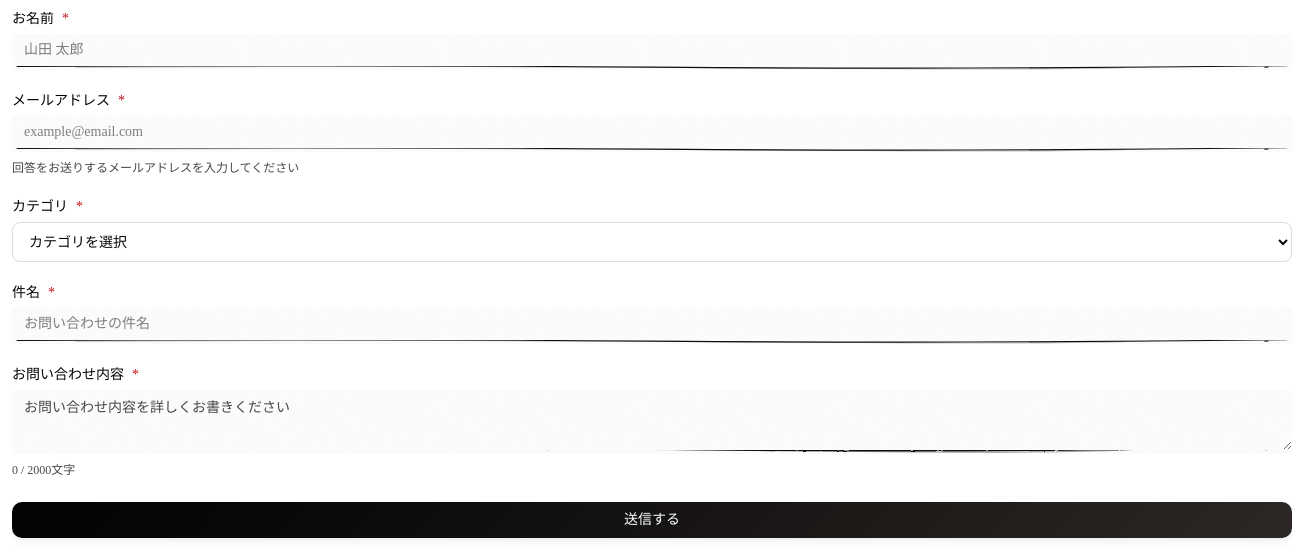
Test case: ContactForm › エラー応答 › Server Action がエラー文字列を持たないオブジェクトを返した場合、フォールバックメッセージが出る
Type "山田太郎" into the field labelled "お名前 *" at (652,52), box [12, 34, 1292, 70]
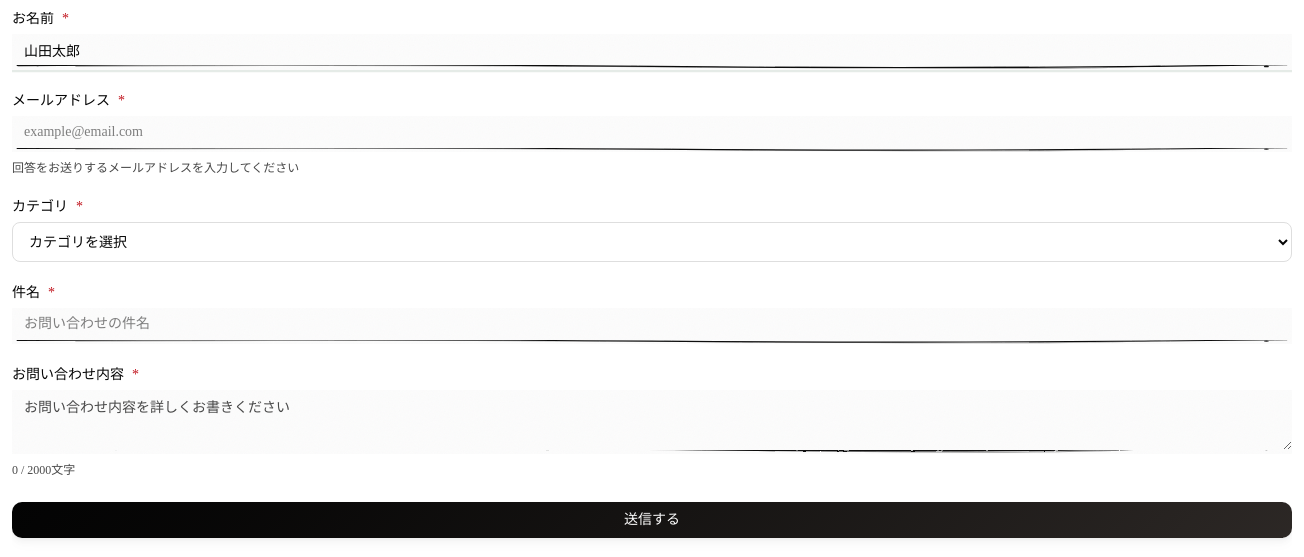
Type "test@example.com" into the field labelled "メールアドレス *" at (652,134), box [12, 116, 1292, 152]
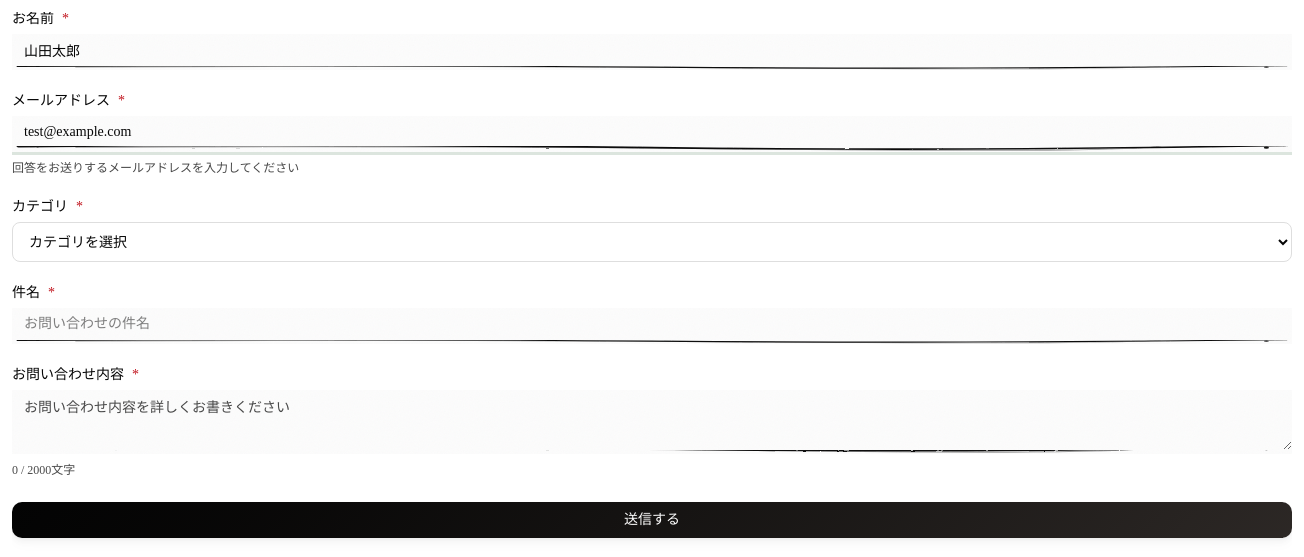
Select "一般的なお問い合わせ" in the dropdown labelled "カテゴリ *" at (652,242), box [12, 222, 1292, 262]
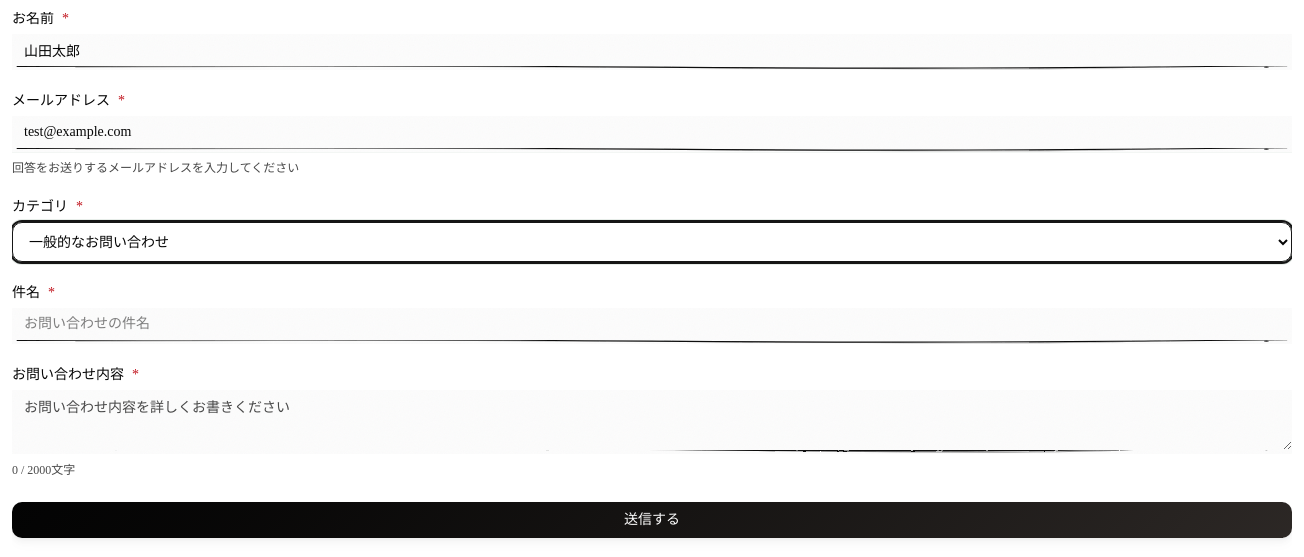
Type "テスト件名" into the field labelled "件名 *" at (652,326), box [12, 308, 1292, 344]
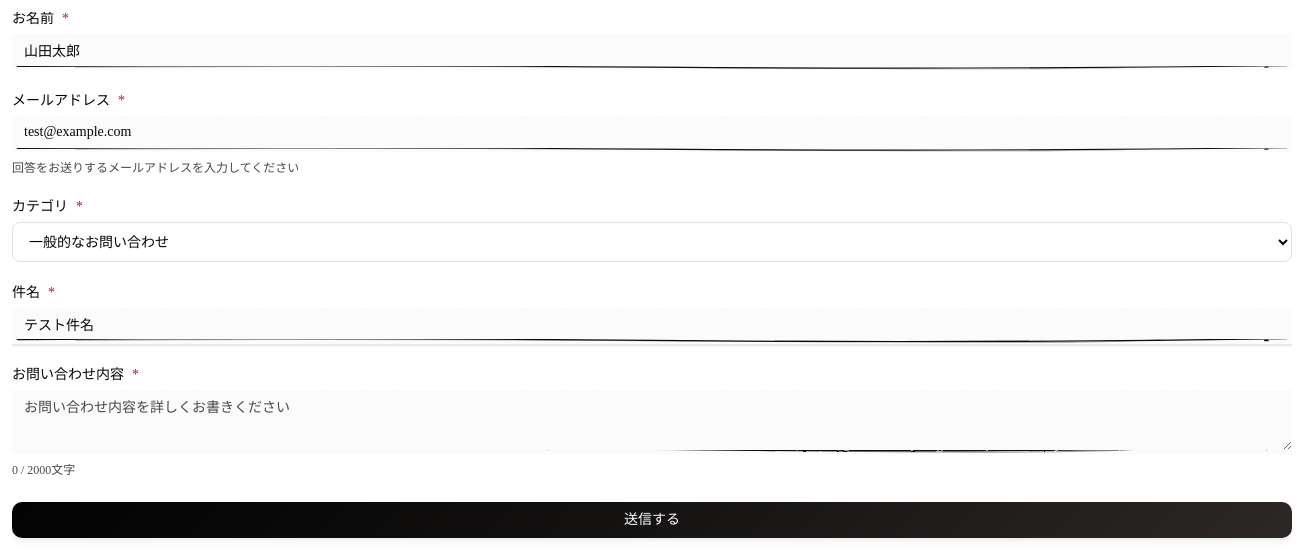
Type "これはテストのお問い合わせ内容です。" into the text box labelled "お問い合わせ内容 *" at (652,422), box [12, 390, 1292, 454]
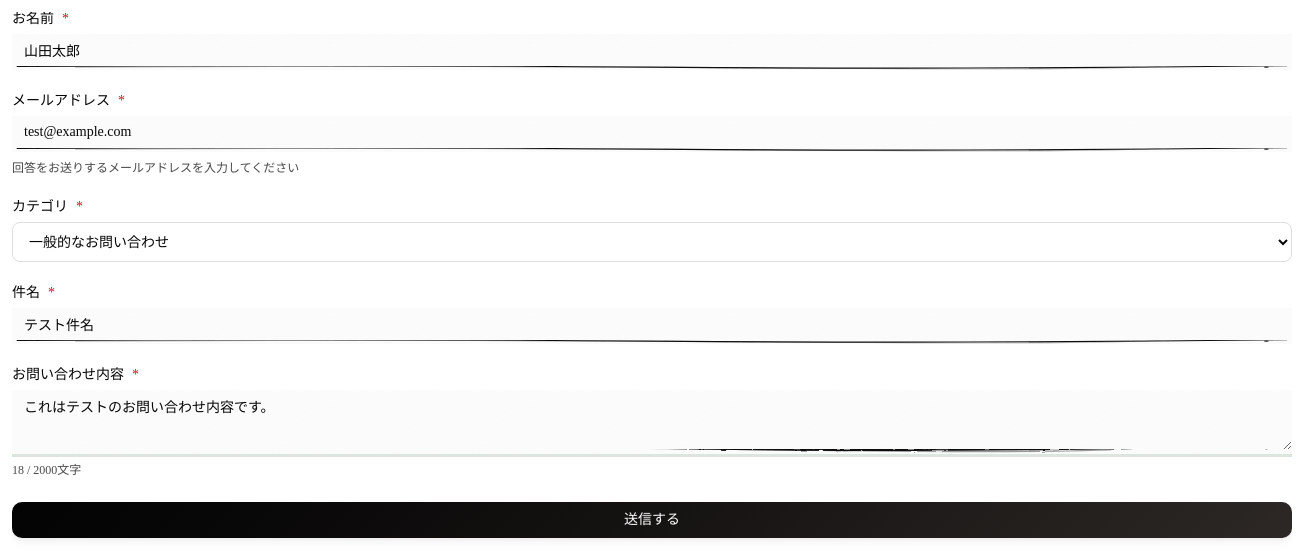
Click the button "送信する" at (652,520), box [12, 502, 1292, 538]
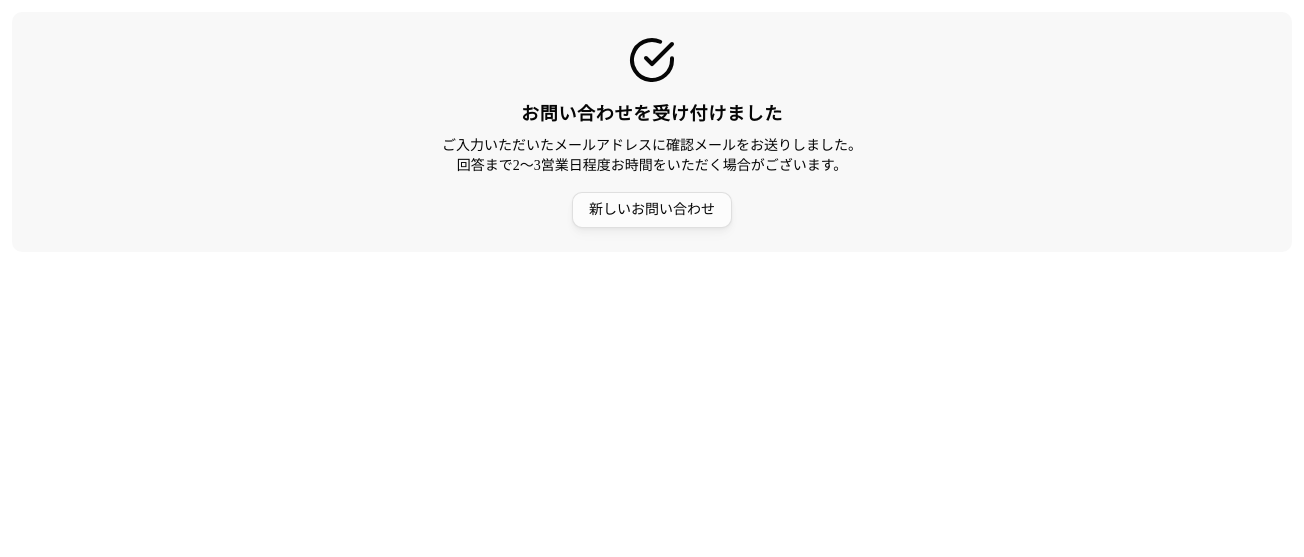
Now the heading "お問い合わせを受け付けました" is shown, box [521, 104, 783, 124]
